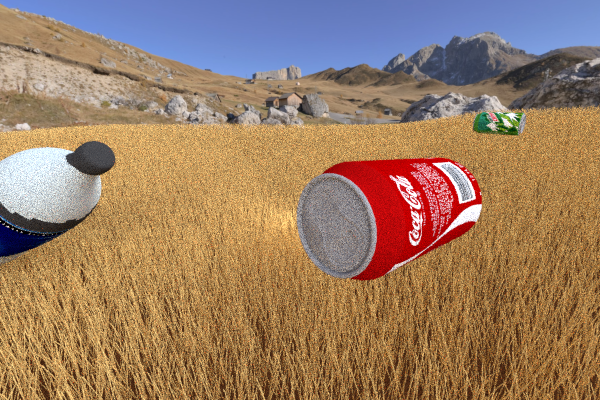Plastic Bottle: (296, 157, 482, 280), (0, 140, 115, 272), (472, 112, 526, 135)
